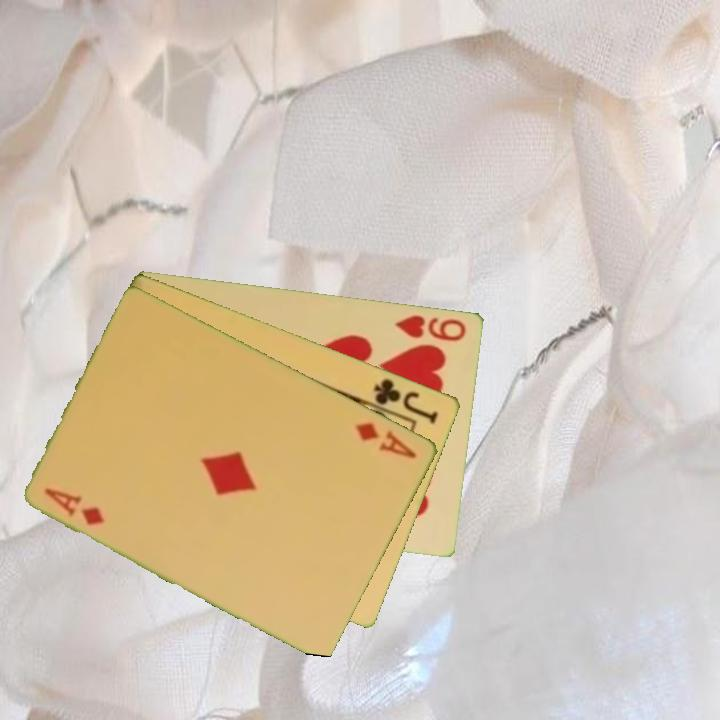9h: (392, 311, 470, 344)
Ad: (41, 484, 108, 529), (352, 418, 420, 462)
Jc: (370, 374, 442, 427)
